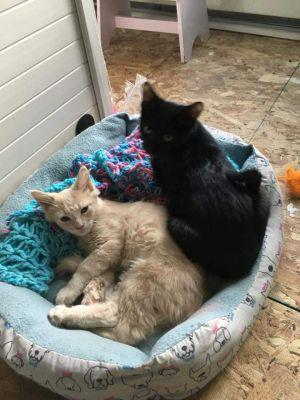persian: (31, 168, 119, 246)
